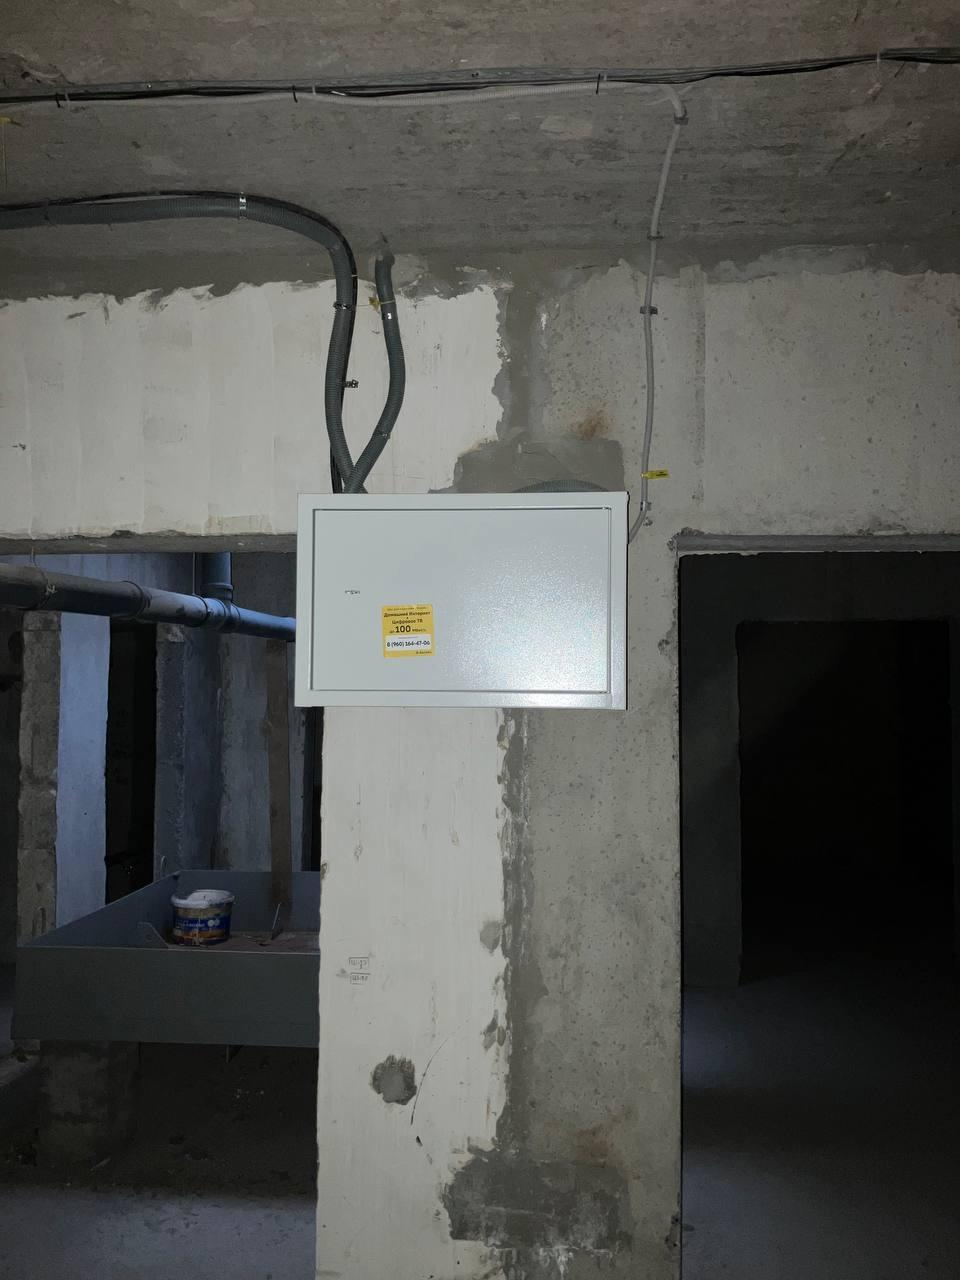shta-7m: (279, 479, 641, 722)
